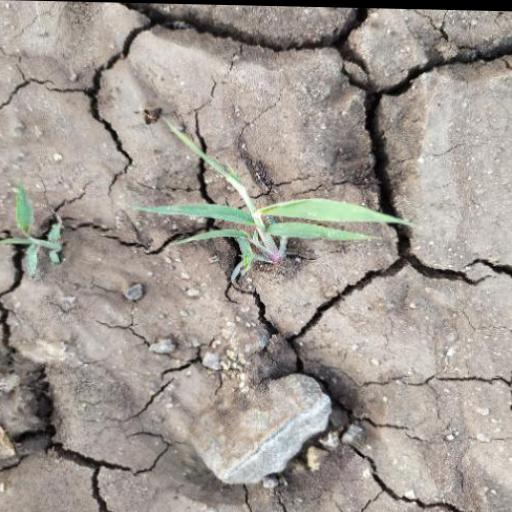weed: (114, 114, 412, 318)
